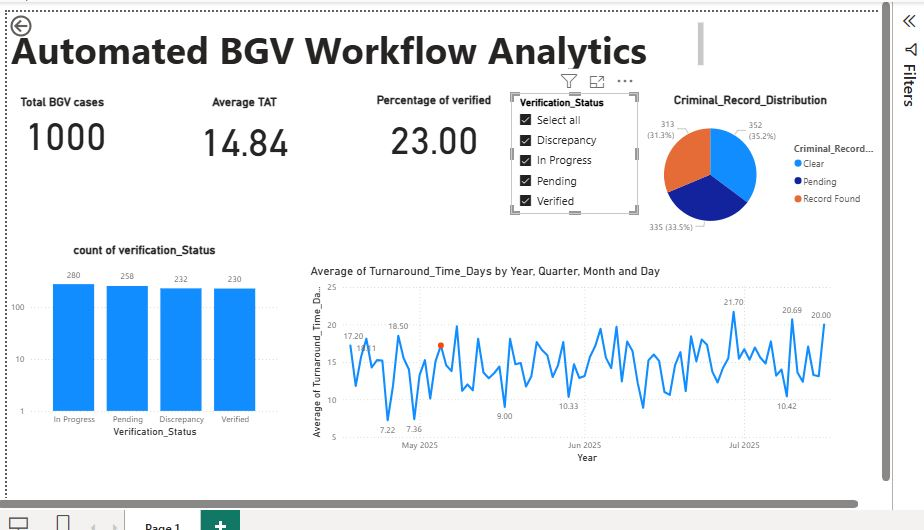

Layout of this report page (visuals, bound fields, positions):
{"tool":"powerbi","page":{"name":"Page 1","canvas":[1280,720],"ordinal":0},"visuals":[{"type":"card","title":"Total BGV cases","fields":{"Values":["Count(Sheet1.Candidate_ID)"]},"box":[14.3,118.6,138.6,87.1],"z":0},{"type":"textbox","box":[0,10,1000,75.7],"z":1},{"type":"card","title":"Average TAT","fields":{"Values":["Avg(Sheet1.Turnaround_Time_Days)"]},"box":[230,118.6,218.6,102.9],"z":2},{"type":"card","title":"Percentage of verified","fields":{"Values":["Sheet1.Percent Verified"]},"box":[500,115.7,220,102.9],"z":3},{"type":"columnChart","title":" count of verification_Status ","fields":{"Category":["Sheet1.Verification_Status"],"Y":["CountNonNull(Sheet1.Verification_Status)"]},"box":[0,330,392.9,282.9],"z":4},{"type":"pieChart","title":"Criminal_Record_Distribution","fields":{"Category":["Sheet1.Criminal_Record_Check"],"Y":["CountNonNull(Sheet1.Criminal_Record_Check)"]},"box":[880,115.7,364.3,214.3],"z":5},{"type":"slicer","fields":{"Values":["Sheet1.Verification_Status"]},"box":[720,115.7,181.4,172.9],"z":6},{"type":"actionButton","box":[0,0,100,40],"z":7},{"type":"lineChart","fields":{"Y":["Avg(Sheet1.Turnaround_Time_Days)"],"Category":["Sheet1.Report_Generated.Variation.Date Hierarchy.Year","Sheet1.Report_Generated.Variation.Date Hierarchy.Quarter","Sheet1.Report_Generated.Variation.Date Hierarchy.Month","Sheet1.Report_Generated.Variation.Date Hierarchy.Day"]},"box":[428.6,360,765.7,290],"z":8}]}

Visuals, with their boxes on the page's 1280x720 design canvas (x1, y1, x2, y2). These are canvas units, not pixel positions in the 924x530 screenshot, which may show the page scaled, cropped or inside an application window:
"Total BGV cases" card: l=14, t=119, r=153, b=206
textbox: l=0, t=10, r=1000, b=86
"Average TAT" card: l=230, t=119, r=449, b=222
"Percentage of verified" card: l=500, t=116, r=720, b=219
" count of verification_Status " columnChart: l=0, t=330, r=393, b=613
"Criminal_Record_Distribution" pieChart: l=880, t=116, r=1244, b=330
slicer - Sheet1.Verification_Status: l=720, t=116, r=901, b=289
actionButton: l=0, t=0, r=100, b=40
lineChart - Avg(Sheet1.Turnaround_Time_Days) x Sheet1.Report_Generated.Variation.Date Hierarchy.Year: l=429, t=360, r=1194, b=650
